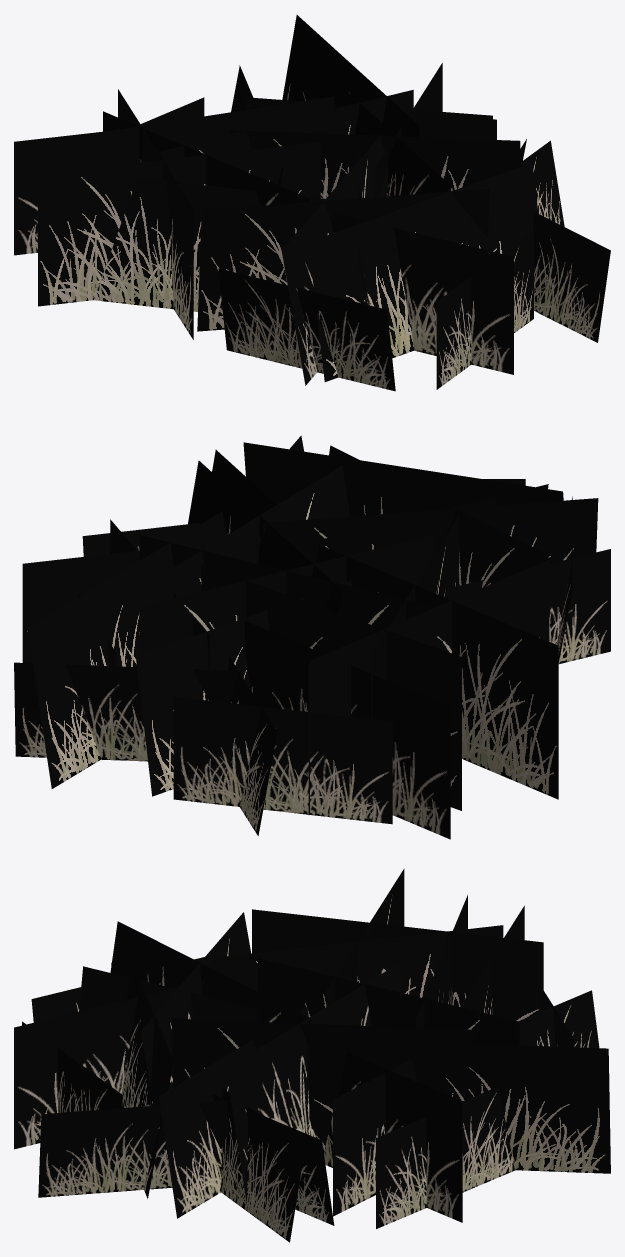
File: Grass.fbx
The picture shows the model from 3 angles, top to bottom: view 1: azimuth 30°, elevation 25°; view 2: azimuth 150°, elevation 25°; view 3: azimuth 270°, elevation 25°; orthographic projection. The views are drawn at different scales.
Parts seen in each view (by area): view 1: Grass; view 2: Grass; view 3: Grass.
Part boxes in pixels (x1=…): Grass: x1=14, y1=15, x2=610, y2=391; Grass: x1=14, y1=435, x2=610, y2=839; Grass: x1=14, y1=868, x2=610, y2=1242.
Bounding box in the file's own units: 27.95 × 7.51 × 29.67.
